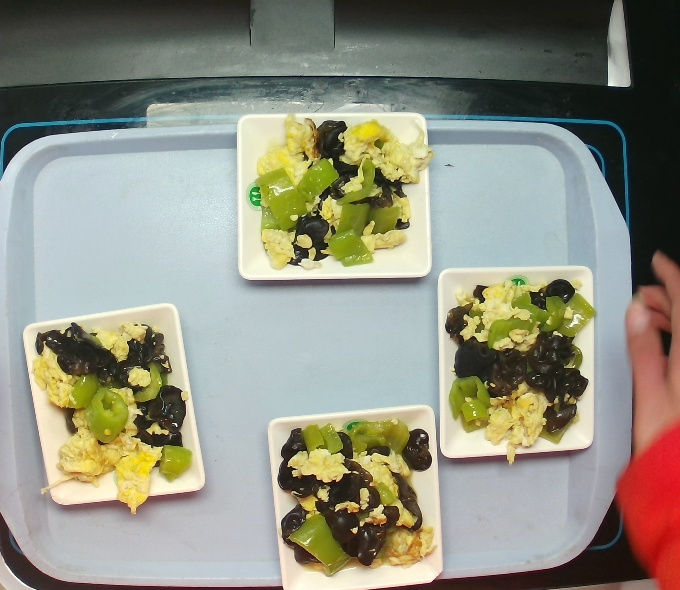wcq-MuErDanHuang: (429, 266, 600, 466), (269, 405, 441, 586), (255, 115, 422, 276), (43, 330, 188, 505)
